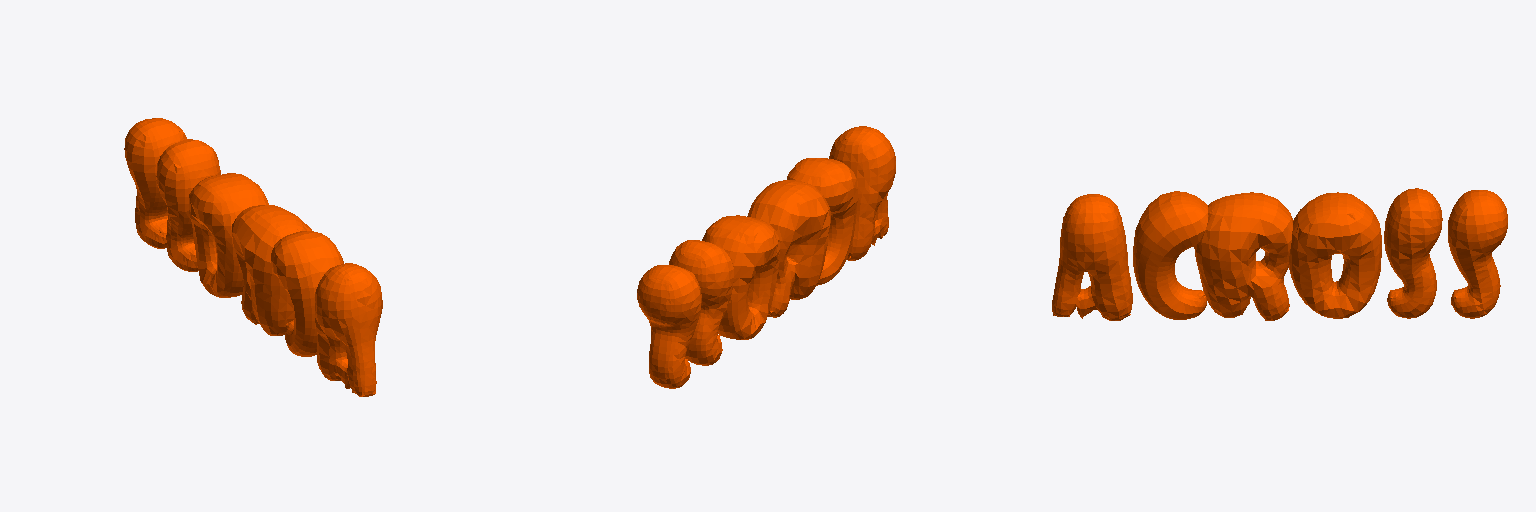
The model's file is 10_across.obj.
3 views of the same model, side by side, from view 1: azimuth 30°, elevation 25°; view 2: azimuth 150°, elevation 25°; view 3: azimuth 270°, elevation 25° (orthographic).
Parts seen in each view (by area): view 1: _across:across; view 2: _across:across; view 3: _across:across.
Part boxes in pixels (bbox=[...]): _across:across: bbox=[124, 118, 382, 396]; _across:across: bbox=[637, 126, 895, 388]; _across:across: bbox=[1052, 188, 1507, 320].
Bounding box in the file's own units: 0.1451 × 0.2544 × 0.8281.